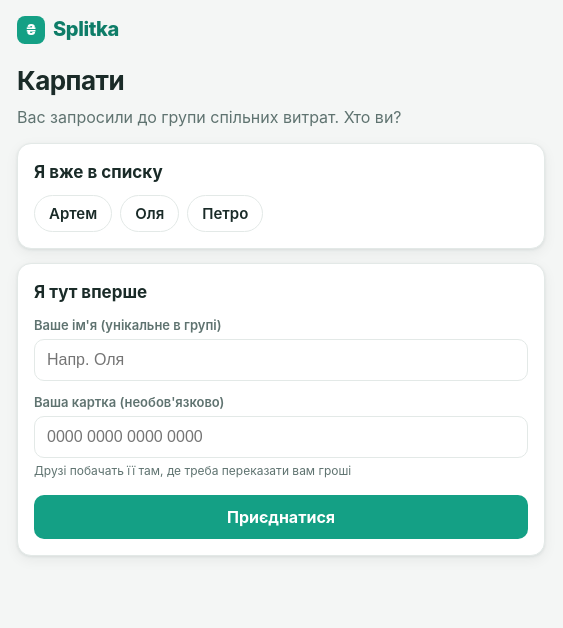
joining with a card › refuses an invalid card before joining
This screenshot has width=563, height=628.
Type "Іра" into the field labelled "Ваше ім'я (унікальне в групі)" at (281, 360), box x1=34 y1=339 x2=528 y2=381
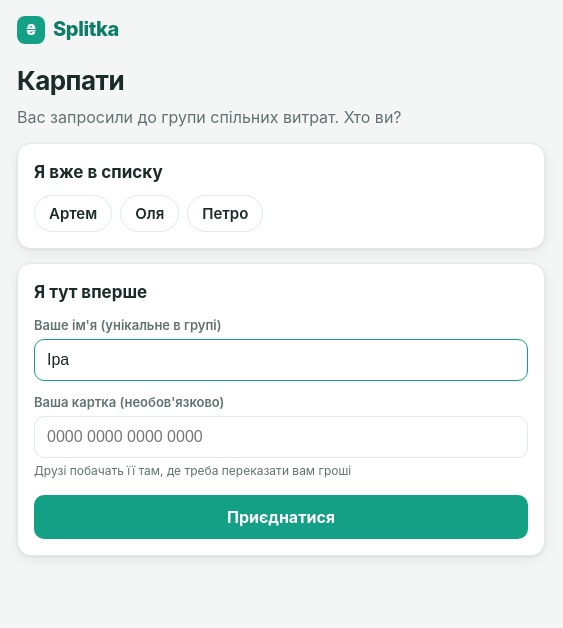
Type "5375" into the field labelled "Ваша картка (необов'язково)" at (281, 437), box x1=34 y1=416 x2=528 y2=458
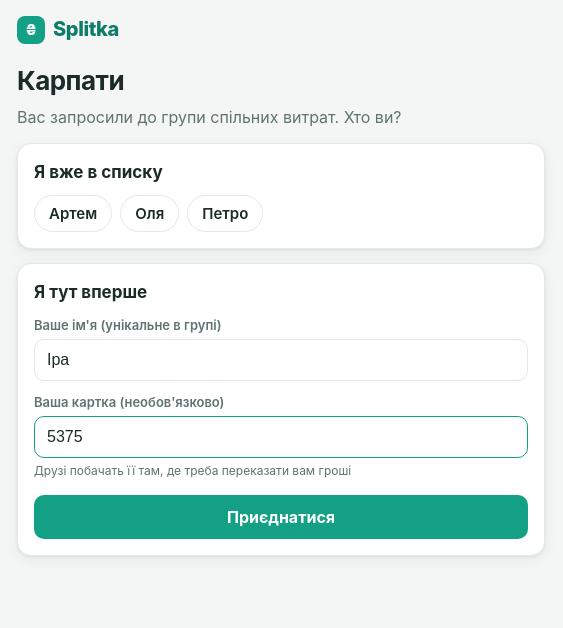
Click the button "Приєднатися" at (281, 517), box x1=34 y1=495 x2=528 y2=539
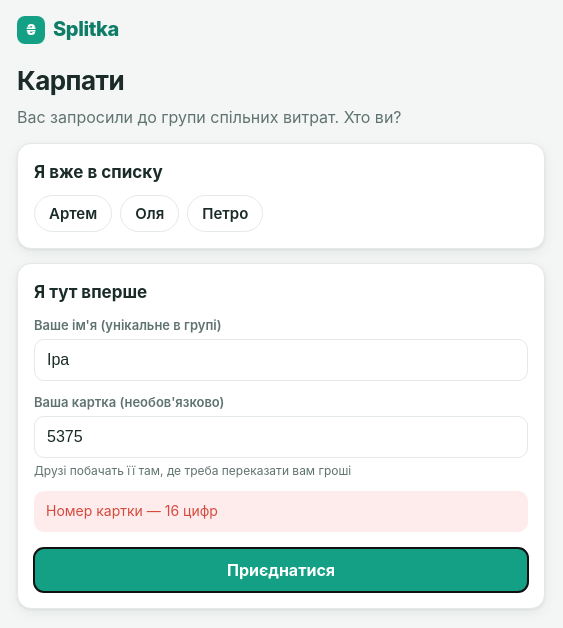
Expected: the text "Номер картки — 16 цифр" is shown, x1=34 y1=491 x2=528 y2=532
